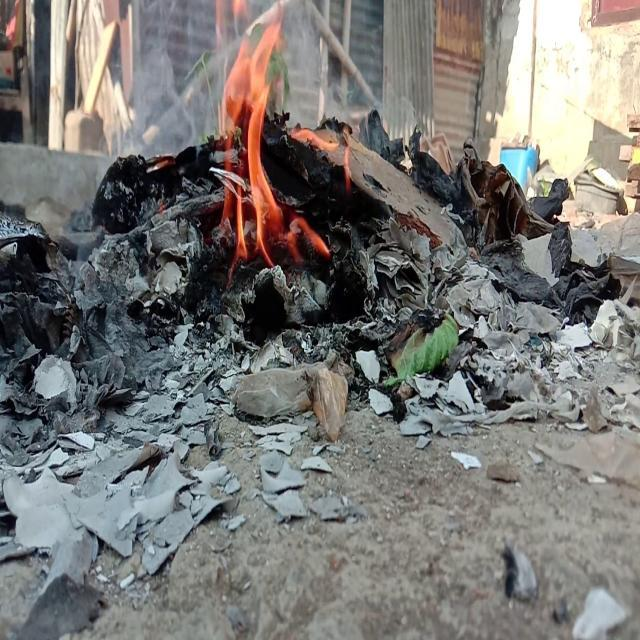Fire: (214, 0, 354, 273)
